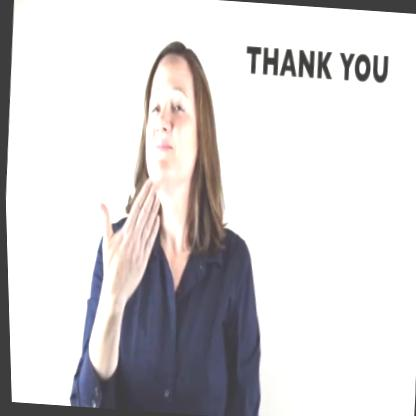ThankYou: (68, 26, 239, 315)
